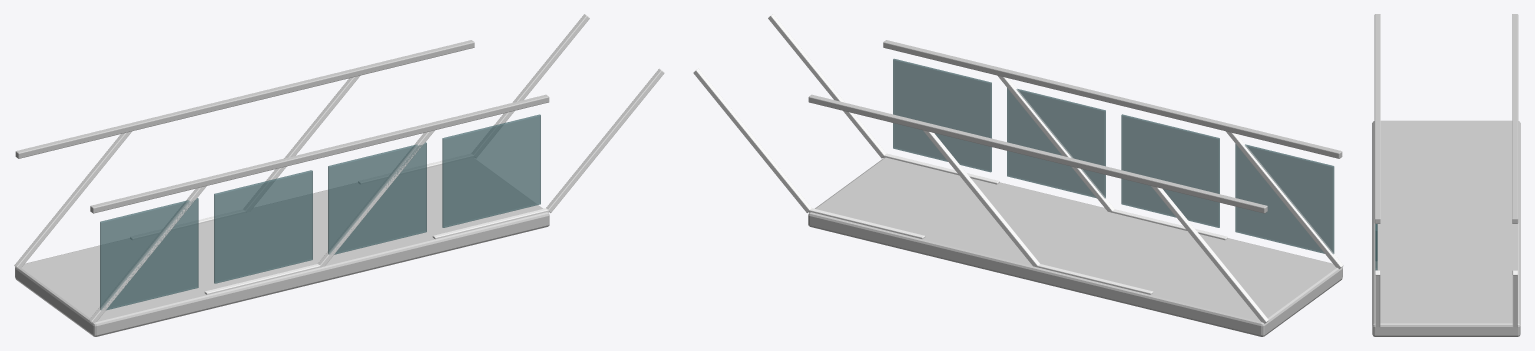
File: SM_FC01_Infrastructure_Skybridge_A.glb
The picture shows the model from 3 angles, left to right: view 1: azimuth 30°, elevation 25°; view 2: azimuth 150°, elevation 25°; view 3: azimuth 270°, elevation 25°; orthographic projection. The views are drawn at different scales.
Parts seen in each view (by area): view 1: SM_FC01_Infrastructure_Skybridge_A_Floor, SM_FC01_Infrastructure_Skybridge_A_Glass_2.7, SM_FC01_Infrastructure_Skybridge_A_Glass_-0.9, SM_FC01_Infrastructure_Skybridge_A_Glass_-2.7, SM_FC01_Infrastructure_Skybridge_A_Glass_0.9, SM_FC01_Infrastructure_Skybridge_A_Top_-1.02, SM_FC01_Infrastructure_Skybridge_A_Top_1.02, SM_FC01_Infrastructure_Skybridge_A_Diag_-1.02_4, SM_FC01_Infrastructure_Skybridge_A_Diag_1.02_0, SM_FC01_Infrastructure_Skybridge_A_Diag_-1.02_0, SM_FC01_Infrastructure_Skybridge_A_Diag_-1.02_2, SM_FC01_Infrastructure_Skybridge_A_Diag_1.02_4 (+3 smaller); view 2: SM_FC01_Infrastructure_Skybridge_A_Floor, SM_FC01_Infrastructure_Skybridge_A_Glass_-2.7, SM_FC01_Infrastructure_Skybridge_A_Glass_2.7, SM_FC01_Infrastructure_Skybridge_A_Glass_-0.9, SM_FC01_Infrastructure_Skybridge_A_Glass_0.9, SM_FC01_Infrastructure_Skybridge_A_Top_-1.02, SM_FC01_Infrastructure_Skybridge_A_Top_1.02, SM_FC01_Infrastructure_Skybridge_A_Diag_1.02_4, SM_FC01_Infrastructure_Skybridge_A_Diag_1.02_0, SM_FC01_Infrastructure_Skybridge_A_Diag_1.02_2, SM_FC01_Infrastructure_Skybridge_A_Diag_-1.02_0, SM_FC01_Infrastructure_Skybridge_A_Diag_-1.02_4 (+5 smaller); view 3: SM_FC01_Infrastructure_Skybridge_A_Floor, SM_FC01_Infrastructure_Skybridge_A_Top_-1.02, SM_FC01_Infrastructure_Skybridge_A_Top_1.02, SM_FC01_Infrastructure_Skybridge_A_Diag_-1.02_4, SM_FC01_Infrastructure_Skybridge_A_Diag_1.02_4, SM_FC01_Infrastructure_Skybridge_A_Glass_2.7.
Part boxes in pixels (x1,y1,x2,y2): SM_FC01_Infrastructure_Skybridge_A_Floor: (15,158,549,336); SM_FC01_Infrastructure_Skybridge_A_Glass_2.7: (442,114,540,227); SM_FC01_Infrastructure_Skybridge_A_Glass_-0.9: (214,170,312,283); SM_FC01_Infrastructure_Skybridge_A_Glass_-2.7: (100,198,198,310); SM_FC01_Infrastructure_Skybridge_A_Glass_0.9: (328,142,426,254); SM_FC01_Infrastructure_Skybridge_A_Top_-1.02: (90,94,549,213); SM_FC01_Infrastructure_Skybridge_A_Top_1.02: (15,40,474,158); SM_FC01_Infrastructure_Skybridge_A_Diag_-1.02_4: (546,68,664,212); SM_FC01_Infrastructure_Skybridge_A_Diag_1.02_0: (14,131,131,268); SM_FC01_Infrastructure_Skybridge_A_Diag_-1.02_0: (89,186,206,323); SM_FC01_Infrastructure_Skybridge_A_Diag_-1.02_2: (318,130,434,267); SM_FC01_Infrastructure_Skybridge_A_Diag_1.02_4: (471,14,589,157); SM_FC01_Infrastructure_Skybridge_A_Floor: (808,157,1342,336); SM_FC01_Infrastructure_Skybridge_A_Glass_-2.7: (1235,143,1334,254); SM_FC01_Infrastructure_Skybridge_A_Glass_2.7: (893,58,991,172); SM_FC01_Infrastructure_Skybridge_A_Glass_-0.9: (1121,114,1219,227); SM_FC01_Infrastructure_Skybridge_A_Glass_0.9: (1007,88,1105,198); SM_FC01_Infrastructure_Skybridge_A_Top_-1.02: (883,40,1342,158); SM_FC01_Infrastructure_Skybridge_A_Top_1.02: (808,94,1267,213); SM_FC01_Infrastructure_Skybridge_A_Diag_1.02_4: (693,68,811,212); SM_FC01_Infrastructure_Skybridge_A_Diag_1.02_0: (1151,186,1268,323); SM_FC01_Infrastructure_Skybridge_A_Diag_1.02_2: (923,130,1039,267); SM_FC01_Infrastructure_Skybridge_A_Diag_-1.02_0: (1226,131,1343,268); SM_FC01_Infrastructure_Skybridge_A_Diag_-1.02_4: (768,14,886,158); SM_FC01_Infrastructure_Skybridge_A_Floor: (1372,120,1520,336); SM_FC01_Infrastructure_Skybridge_A_Top_-1.02: (1374,14,1380,223); SM_FC01_Infrastructure_Skybridge_A_Top_1.02: (1512,14,1518,223); SM_FC01_Infrastructure_Skybridge_A_Diag_-1.02_4: (1375,270,1380,327); SM_FC01_Infrastructure_Skybridge_A_Diag_1.02_4: (1512,270,1517,327); SM_FC01_Infrastructure_Skybridge_A_Glass_2.7: (1375,224,1377,270).
Size of the model in its own units: 9.04 by 1.95 by 2.2.
